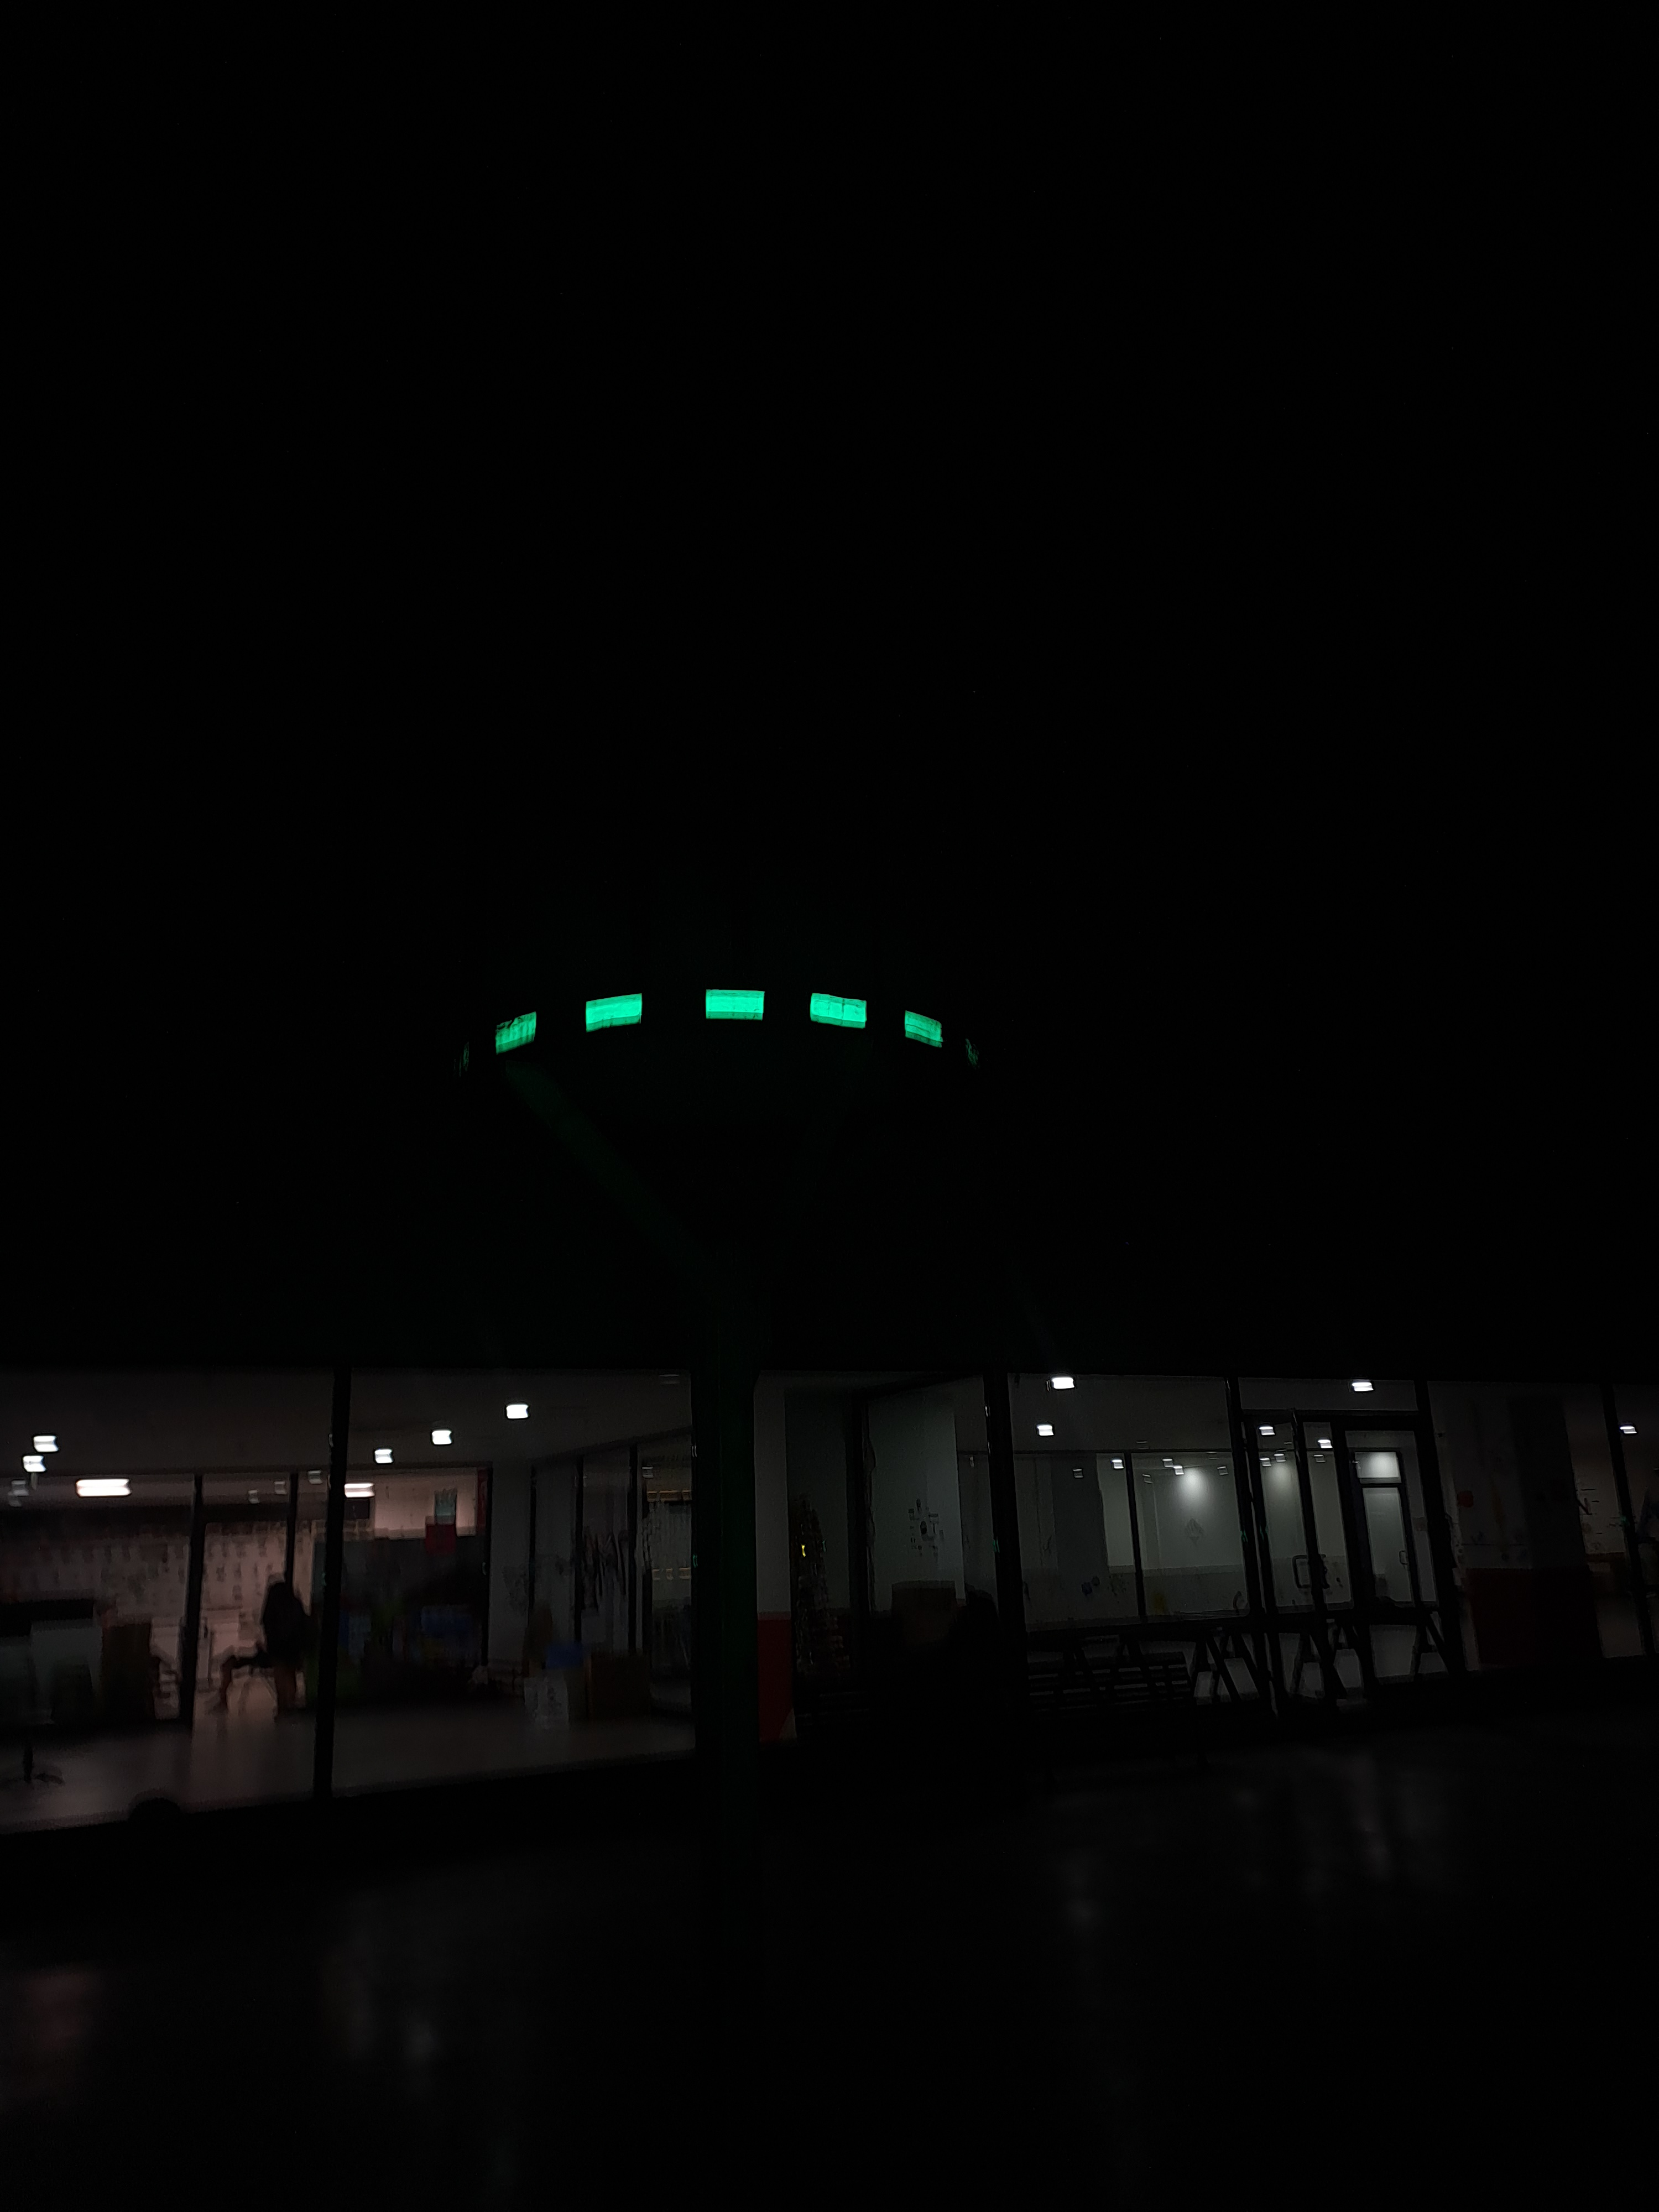hoop: (488, 993, 953, 1062)
